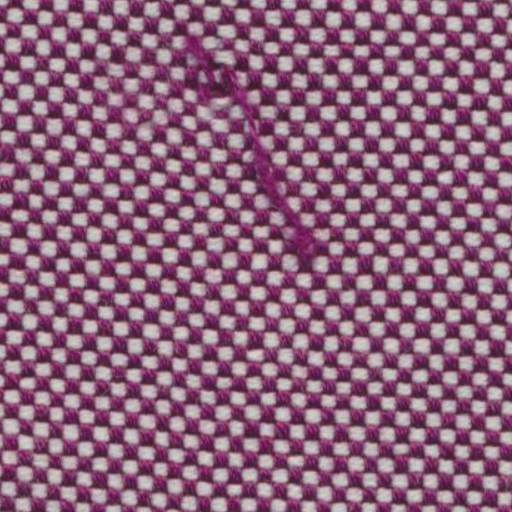DuanSha: (156, 19, 332, 282)
